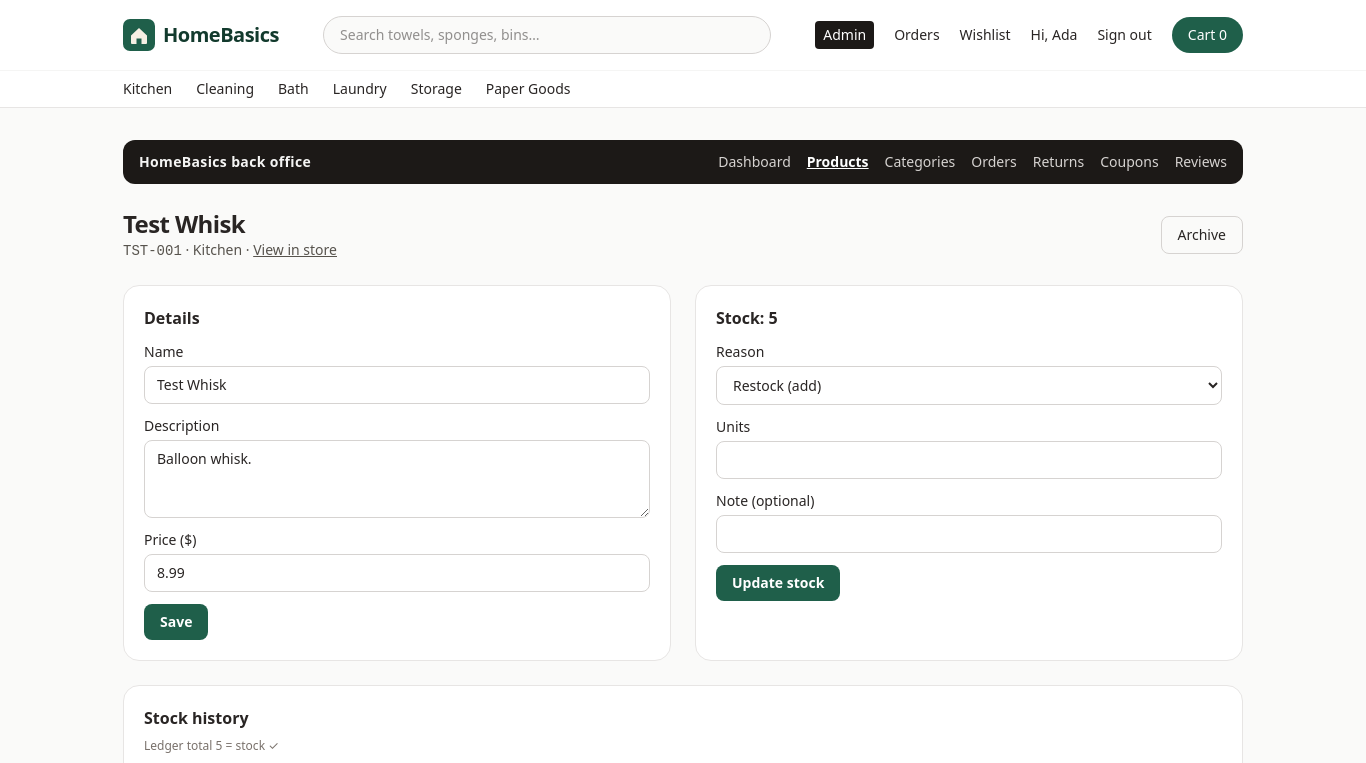
it: admin products (ADM-01, ADM-02) › a restock adjustment sends delta 10
Select "Restock (add)" in the dropdown with test id "admin-adjust-reason": (969, 386) [716,366,1222,405]
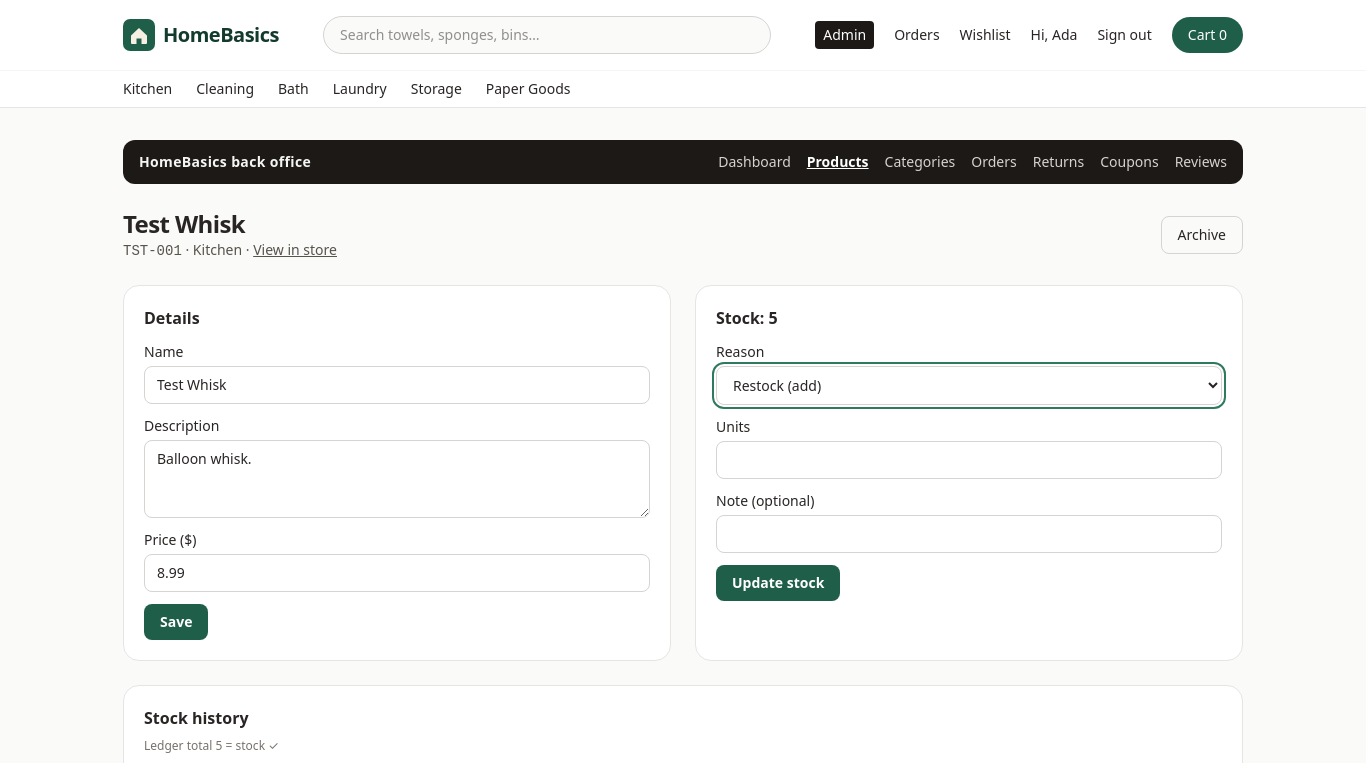
In the number field with test id "admin-adjust-amount": (969, 460) [716,441,1222,479], type "10"
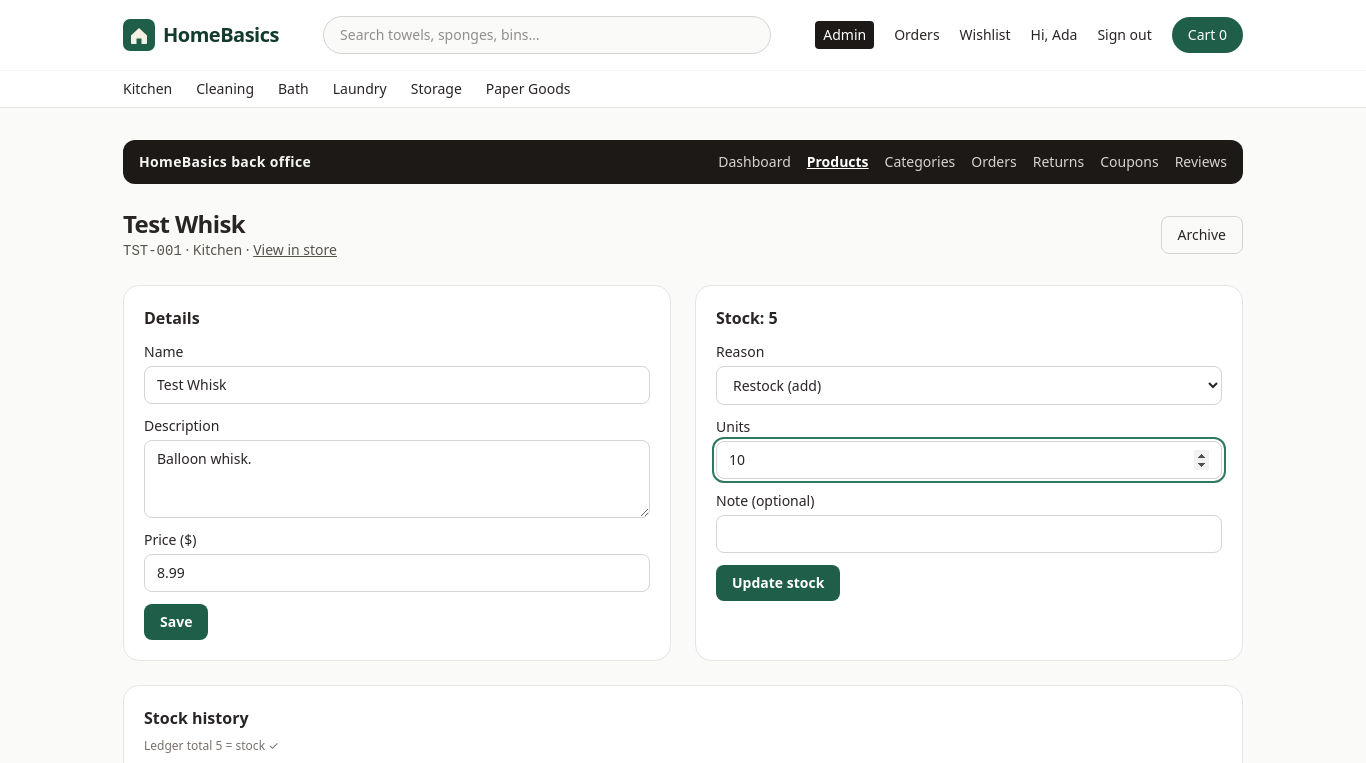
Click the button with test id "admin-adjust-submit": (778, 583) [716,565,840,601]
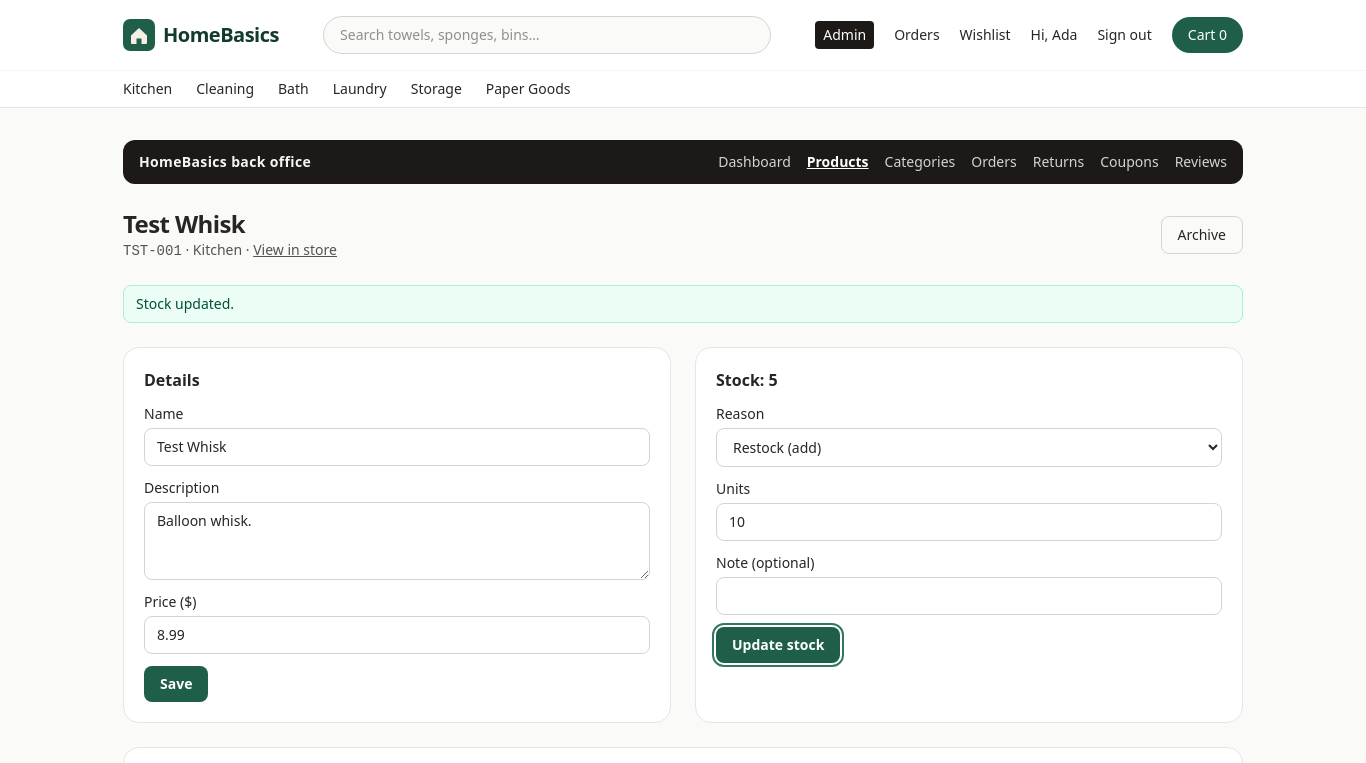
Result: the message with test id "admin-notice" reads "Stock updated." at [136,294,234,313]
